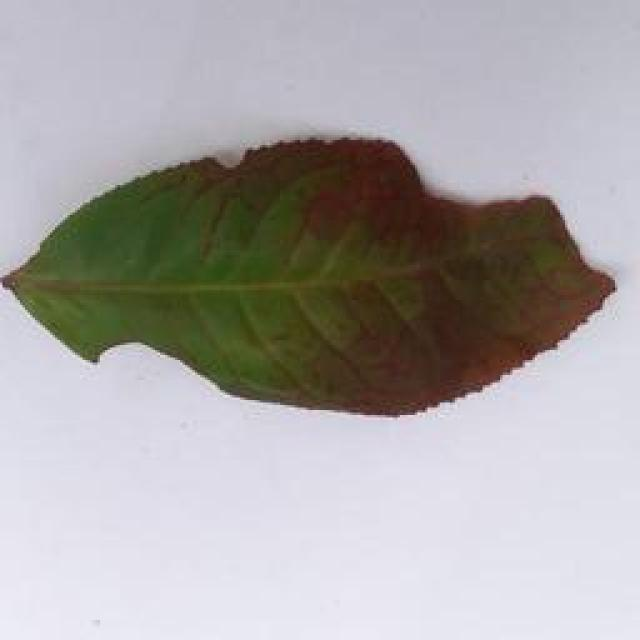Red Leaf Spot: (0, 121, 615, 422)
